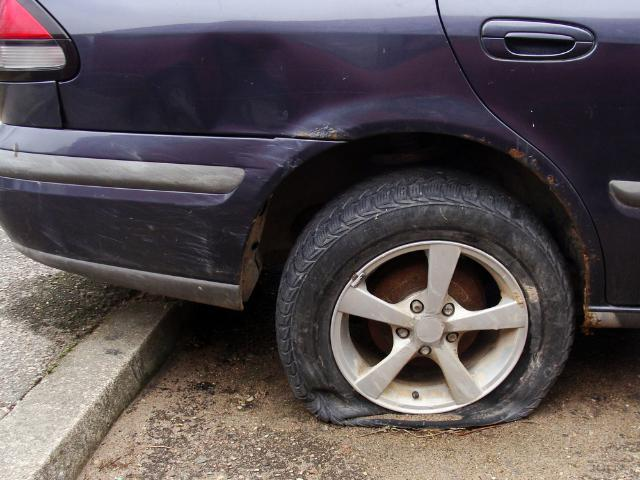dent: (136, 25, 378, 143)
scratch: (81, 215, 222, 278)
tire flat: (279, 163, 575, 428)
